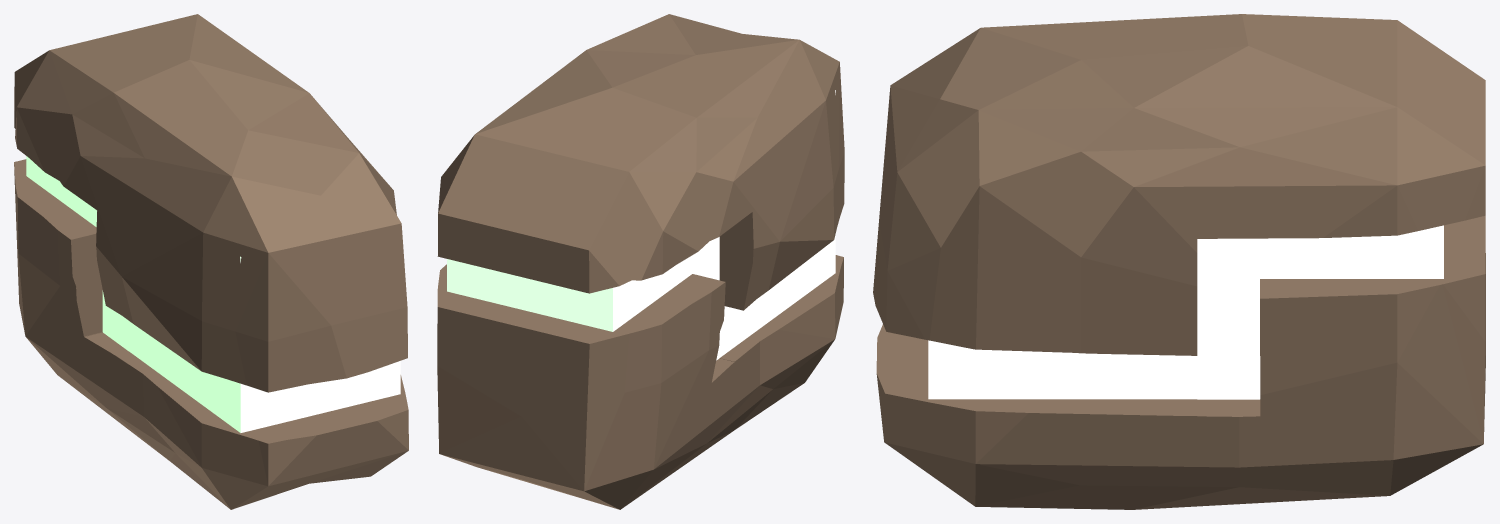
Rendered from rock_sheild .fbx.
3 views of the same model, side by side, from view 1: azimuth 30°, elevation 25°; view 2: azimuth 150°, elevation 25°; view 3: azimuth 270°, elevation 25° (orthographic). The views are drawn at different scales.
Visible parts, largest first — view 1: Cube, Cube.001; view 2: Cube, Cube.001; view 3: Cube, Cube.001.
Part boxes in pixels (<box>): Cube: <box>14,14,408,509</box>; Cube.001: <box>26,156,400,432</box>; Cube: <box>437,14,844,509</box>; Cube.001: <box>447,90,835,360</box>; Cube: <box>873,14,1485,509</box>; Cube.001: <box>928,225,1443,399</box>.
Size of the model in its own units: 143 by 216 by 278.
